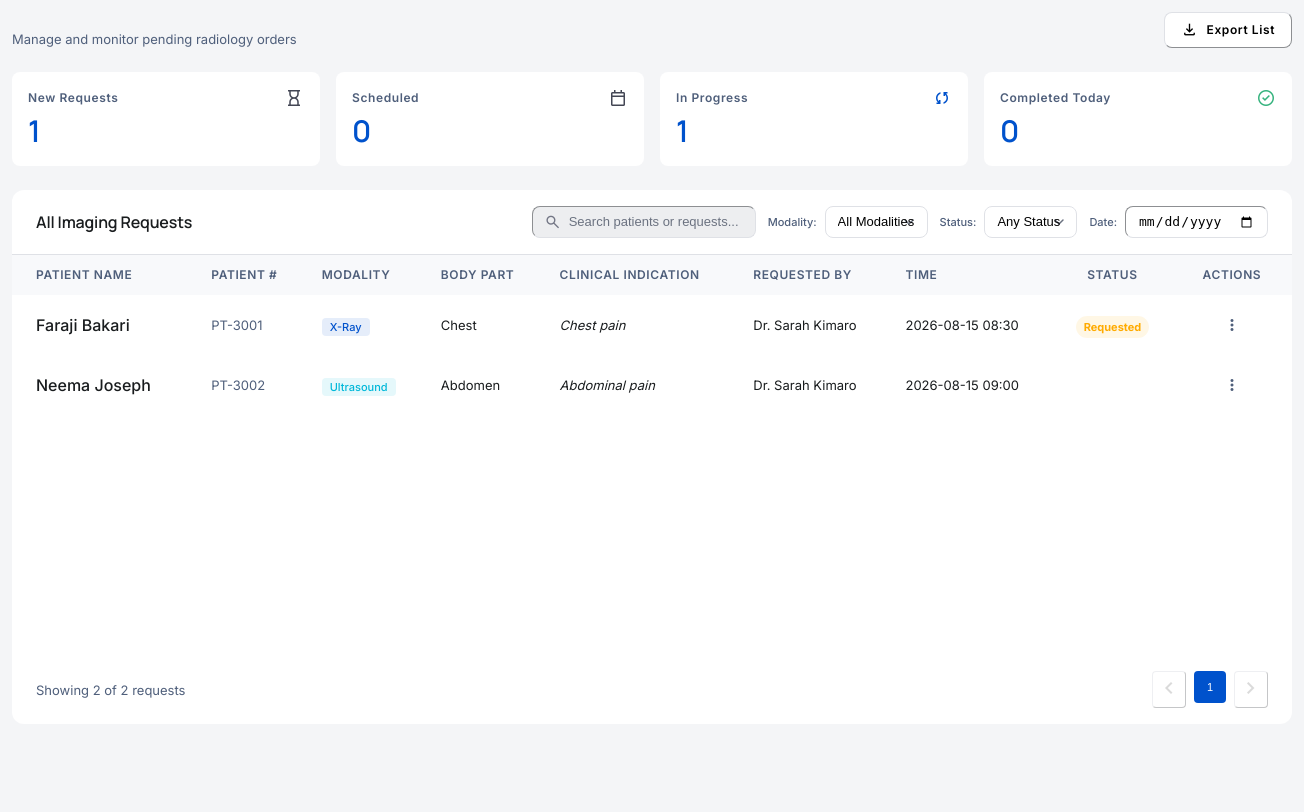
Scenario: ImagingRequestsPage › filters requests by modality
Check: the text "Faraji Bakari" is shown, box [12,295,195,355]
Select "Ultrasound" in the dropdown labelled "Modality:" at (876, 222), box [825,206,928,238]
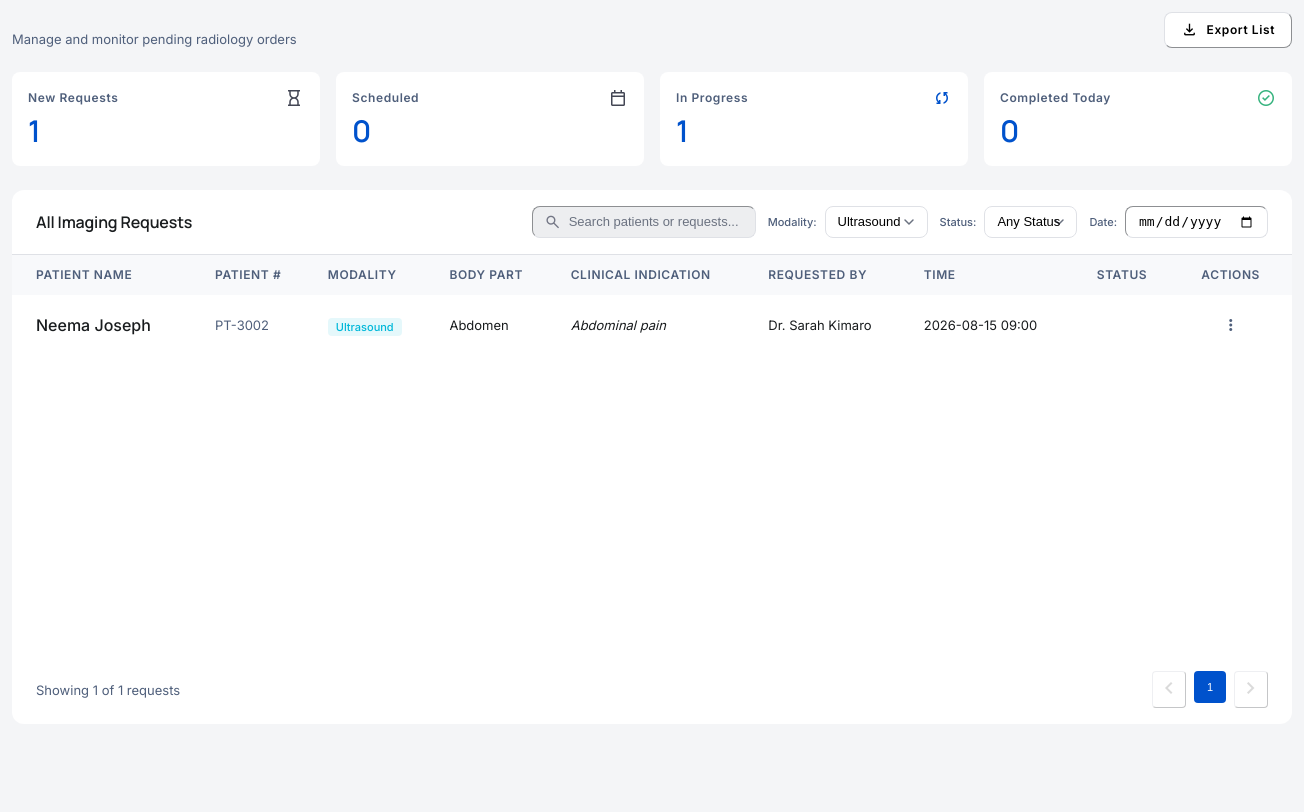
Check: the text "Neema Joseph" is shown, box [12,295,199,355]
Check: the text "Faraji Bakari" is gone
